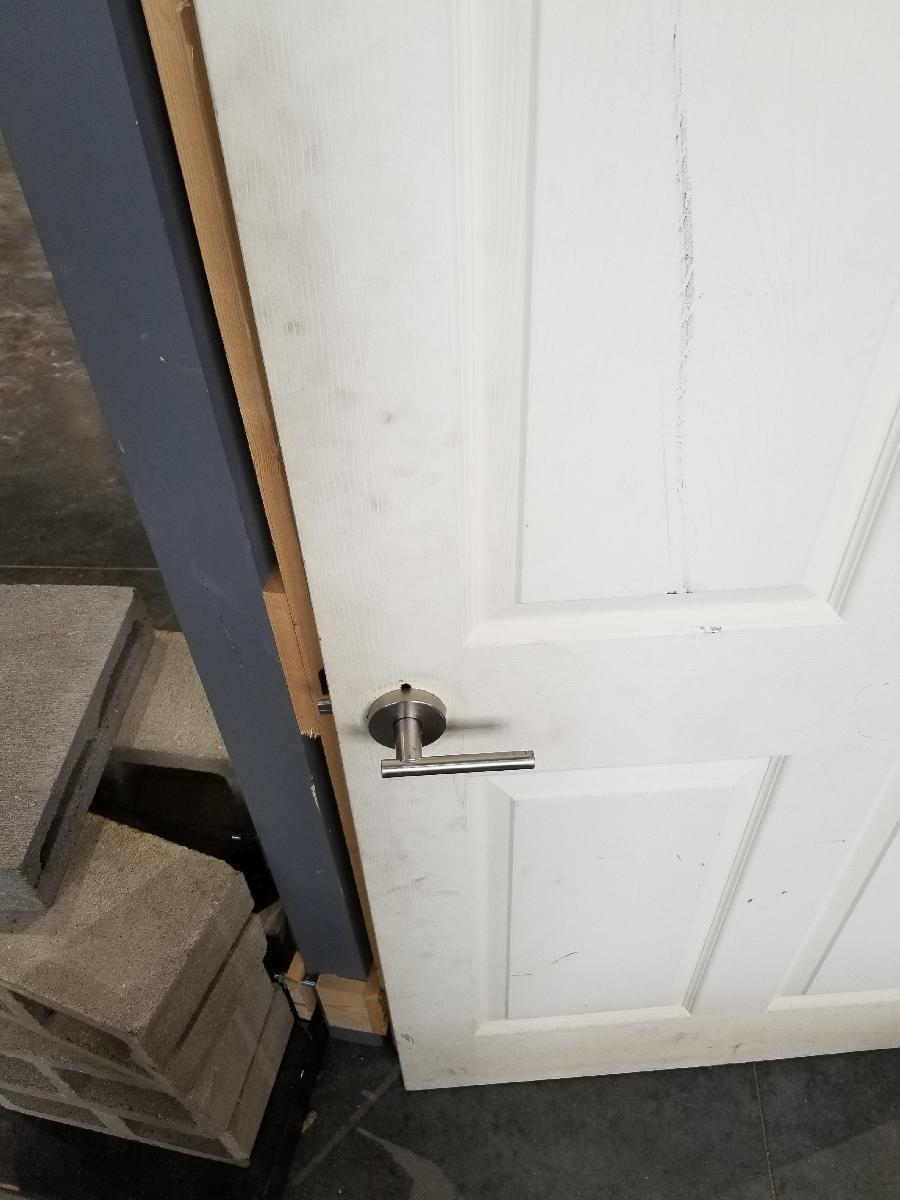door: (344, 4, 900, 1087)
handle: (366, 688, 544, 787)
